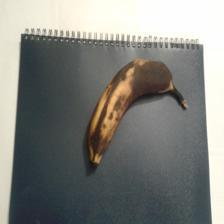Banana Rotten: (88, 58, 191, 164)
